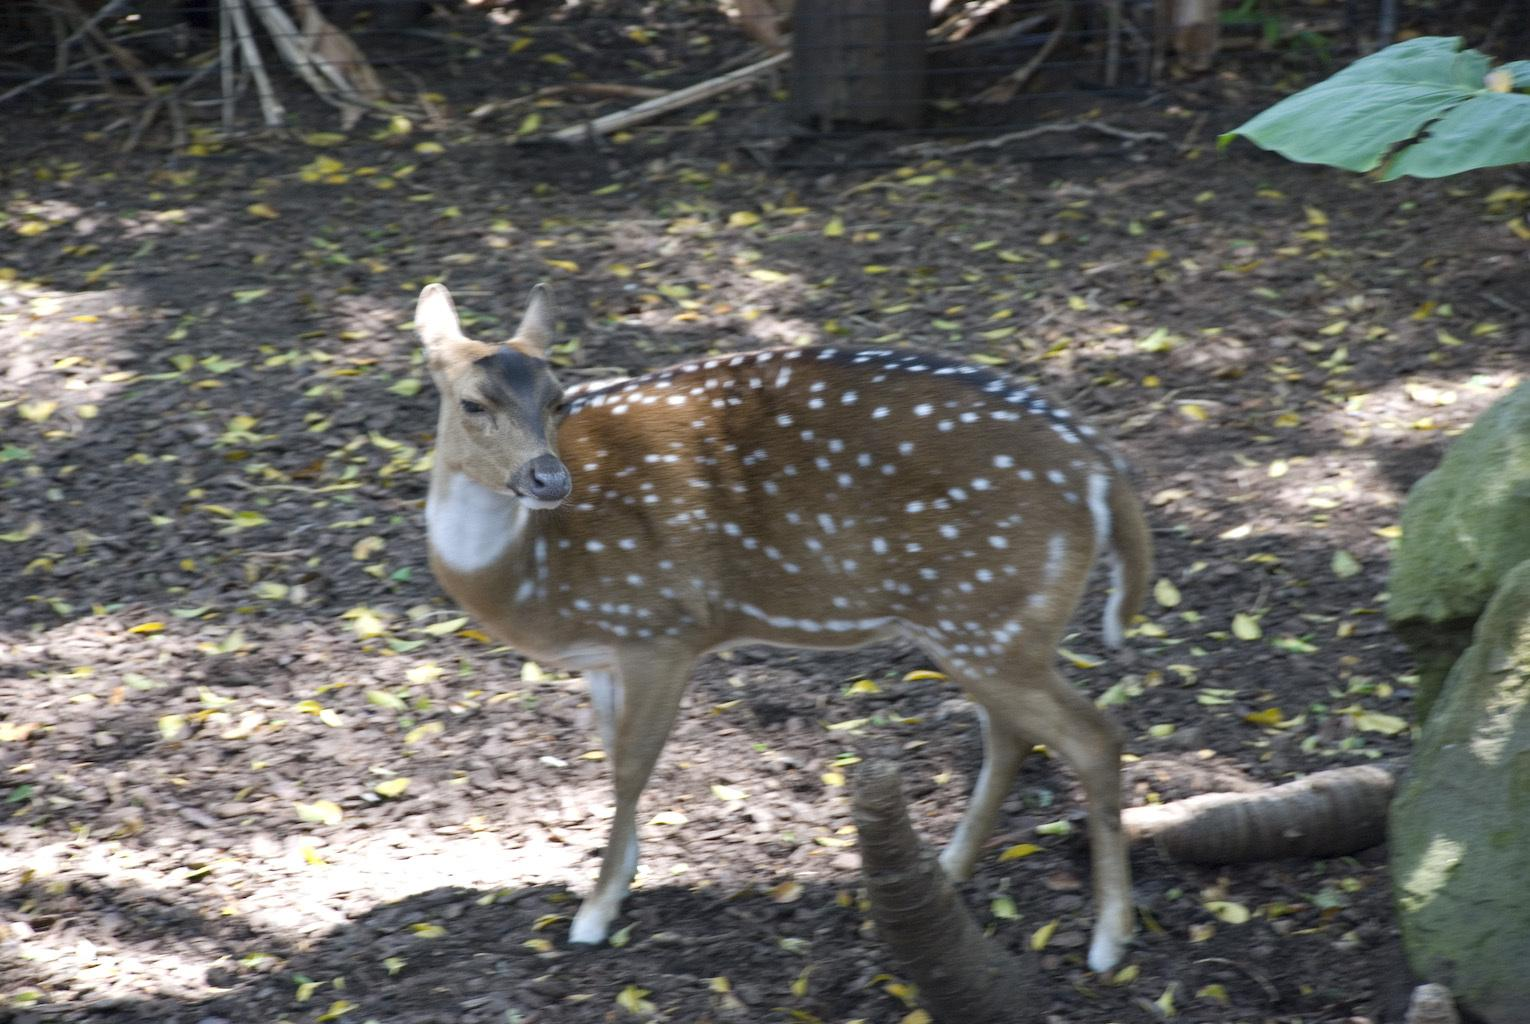Deer: (415, 283, 1152, 1017)
